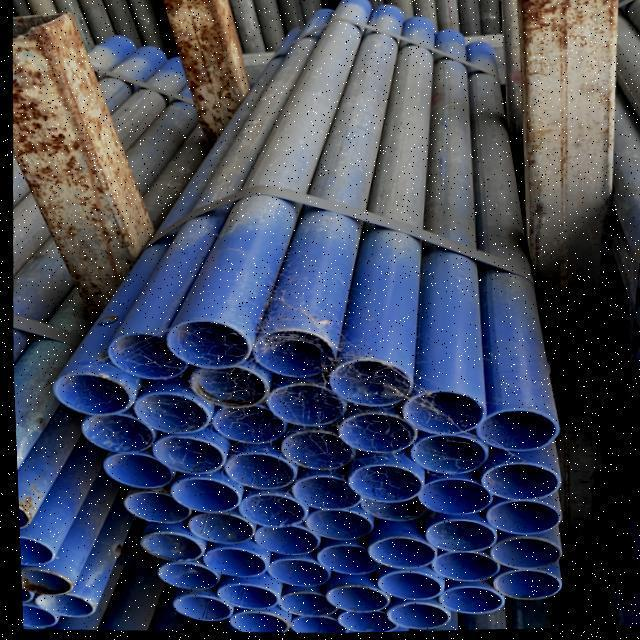pipe: (245, 331, 331, 381), (259, 377, 340, 427), (161, 321, 245, 369), (102, 332, 186, 380), (324, 362, 407, 409), (269, 429, 351, 476), (73, 411, 154, 456), (183, 364, 263, 409), (200, 404, 290, 444), (469, 411, 554, 453), (95, 450, 184, 490), (128, 387, 205, 433), (216, 447, 288, 496), (397, 393, 477, 437), (407, 475, 486, 518), (47, 371, 124, 415), (472, 464, 556, 504), (113, 486, 196, 526), (340, 462, 416, 505), (403, 437, 480, 479), (330, 413, 407, 454), (142, 436, 220, 475), (473, 501, 557, 537), (160, 473, 233, 514), (281, 469, 354, 509), (303, 544, 385, 578), (230, 491, 301, 529), (415, 520, 494, 554), (174, 512, 248, 547), (146, 559, 216, 596), (413, 555, 499, 585), (293, 508, 366, 542), (360, 537, 429, 571), (129, 527, 196, 562), (259, 556, 324, 591), (239, 528, 318, 556), (194, 545, 259, 579), (316, 584, 389, 614), (484, 571, 554, 602), (487, 542, 552, 575), (206, 581, 272, 610), (371, 571, 433, 601), (269, 589, 331, 619), (430, 586, 494, 615), (351, 499, 426, 523), (163, 594, 223, 623), (217, 605, 279, 633), (379, 603, 442, 629), (16, 565, 68, 594), (27, 592, 89, 616), (279, 612, 340, 635), (330, 613, 389, 634), (16, 538, 51, 563), (18, 605, 51, 627)
